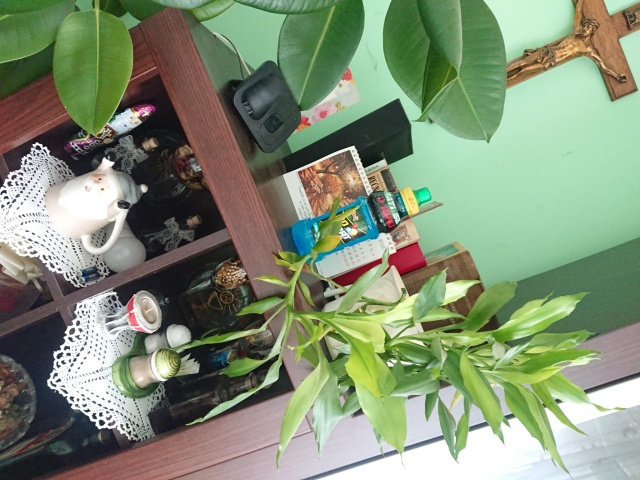Vindi Iso Sport Forest Strawberries 500mL: (289, 185, 433, 265)
